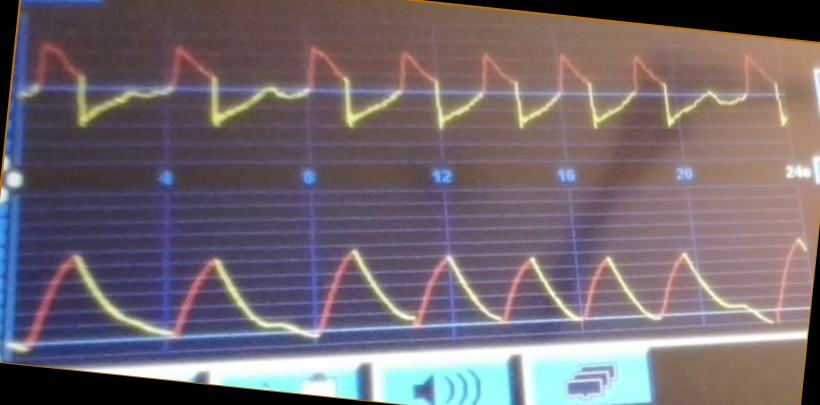Ineffective_effort Flow: (24, 38, 788, 142)
Ineffective_effort Volume: (17, 236, 806, 350)
